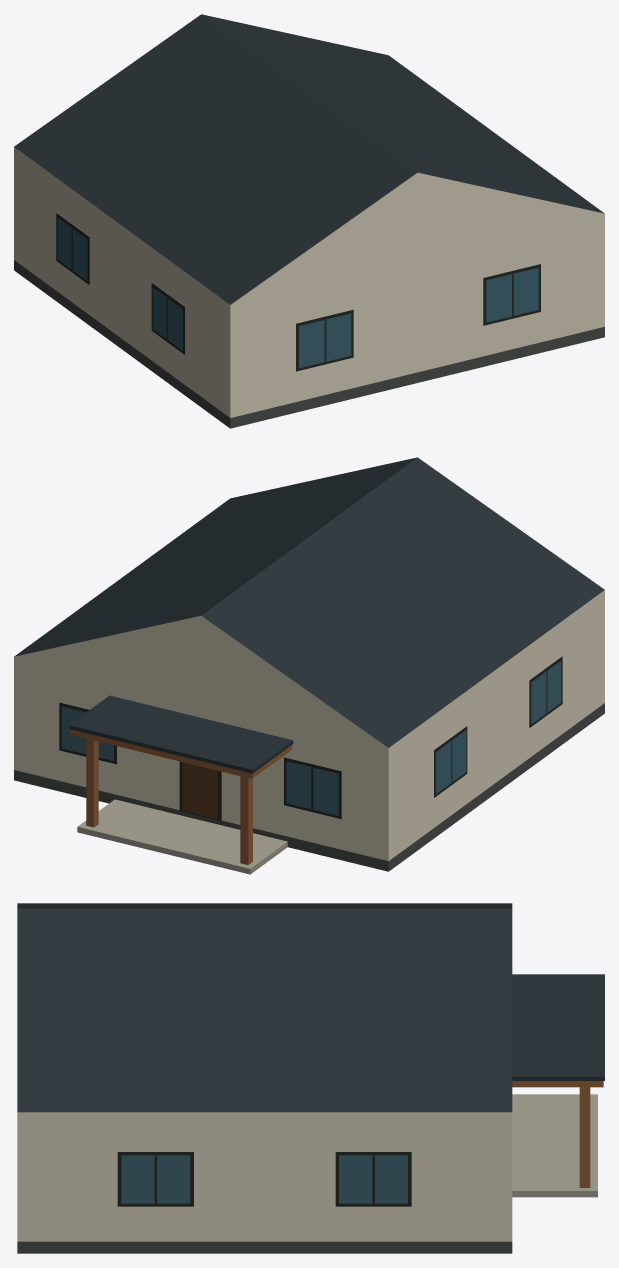
3 views of the same model, one above another, from view 1: azimuth 30°, elevation 25°; view 2: azimuth 150°, elevation 25°; view 3: azimuth 270°, elevation 25° (orthographic). The views are drawn at different scales.
Bounding box in the file's own units: 10.54 × 5.58 × 12.42.
